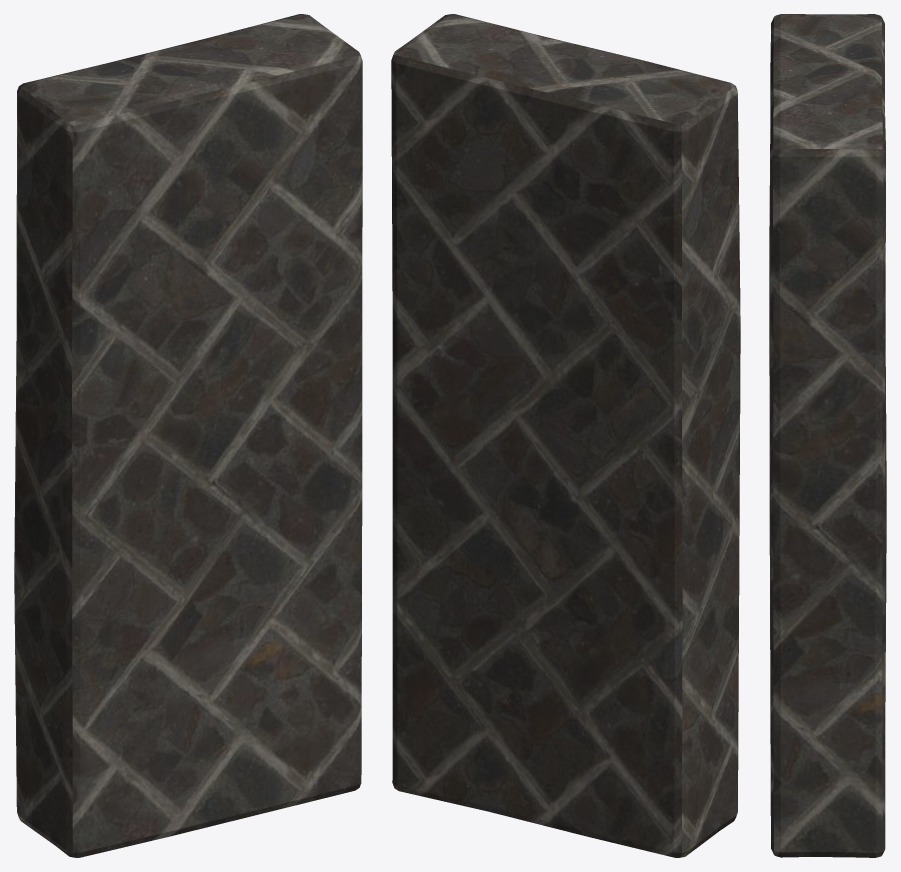
File: wall_end.glb
The picture shows the model from 3 angles, left to right: view 1: azimuth 30°, elevation 25°; view 2: azimuth 150°, elevation 25°; view 3: azimuth 270°, elevation 25°; orthographic projection. The views are drawn at different scales.
Visible parts, largest first — view 1: wall_end; view 2: wall_end; view 3: wall_end.
Part boxes in pixels (left/top/right/bottom): wall_end: left=14, top=14, right=362, bottom=857; wall_end: left=391, top=14, right=740, bottom=857; wall_end: left=769, top=14, right=886, bottom=857.
Bounding box in the file's own units: 1.01 × 2.4 × 0.3575.
Materials: 1 (1 with a texture image).
